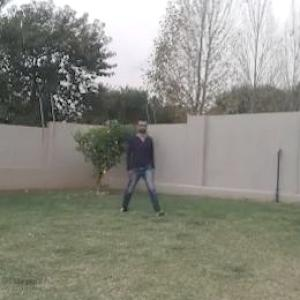follow: (128, 113, 154, 216)
